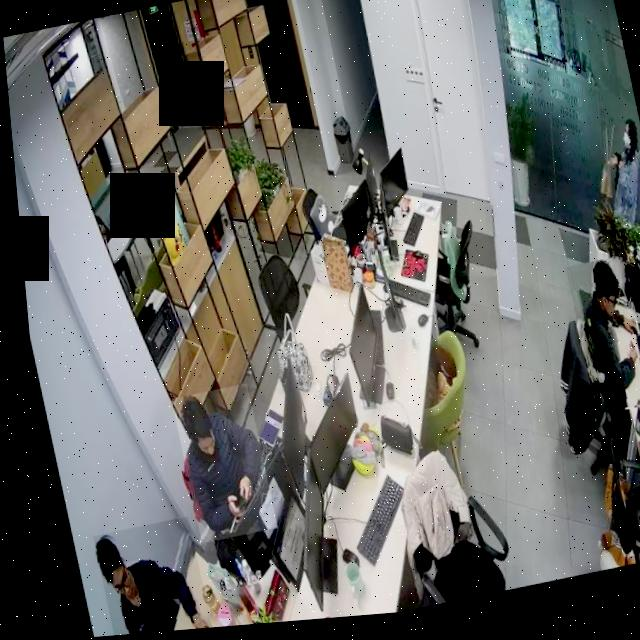person: (162, 385, 267, 546), (81, 517, 202, 637), (559, 265, 640, 426), (591, 124, 640, 241)
